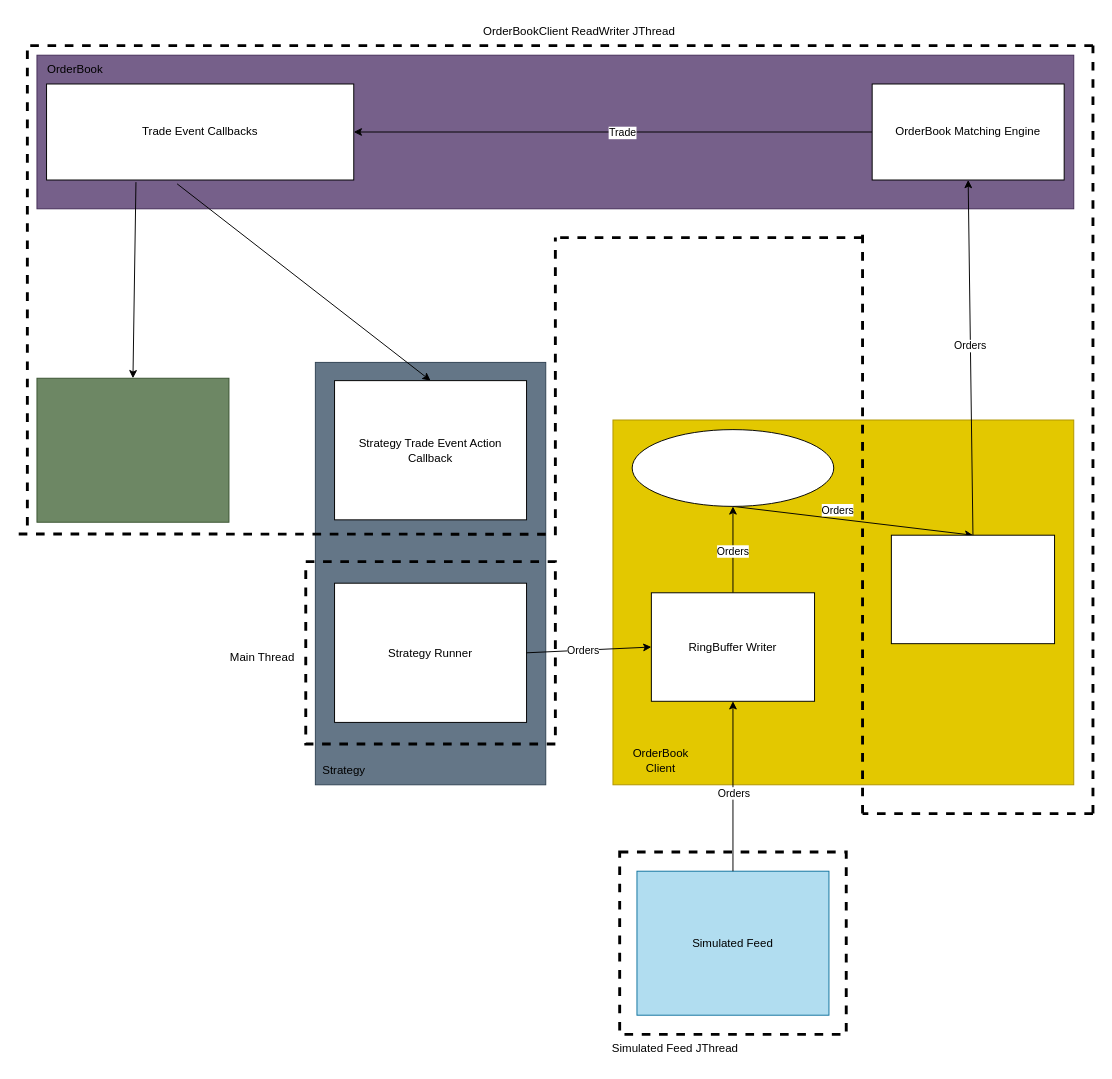
Image size: 1112x1079. Some labels were removed from this diagram. Here are the shapes that lost their labels. From the top down, the centre of each, then its label:
At point 132,449: "PnL Tracker".
At point 732,467: "RingBuffer".
At point 972,589: "ReadWriter".
